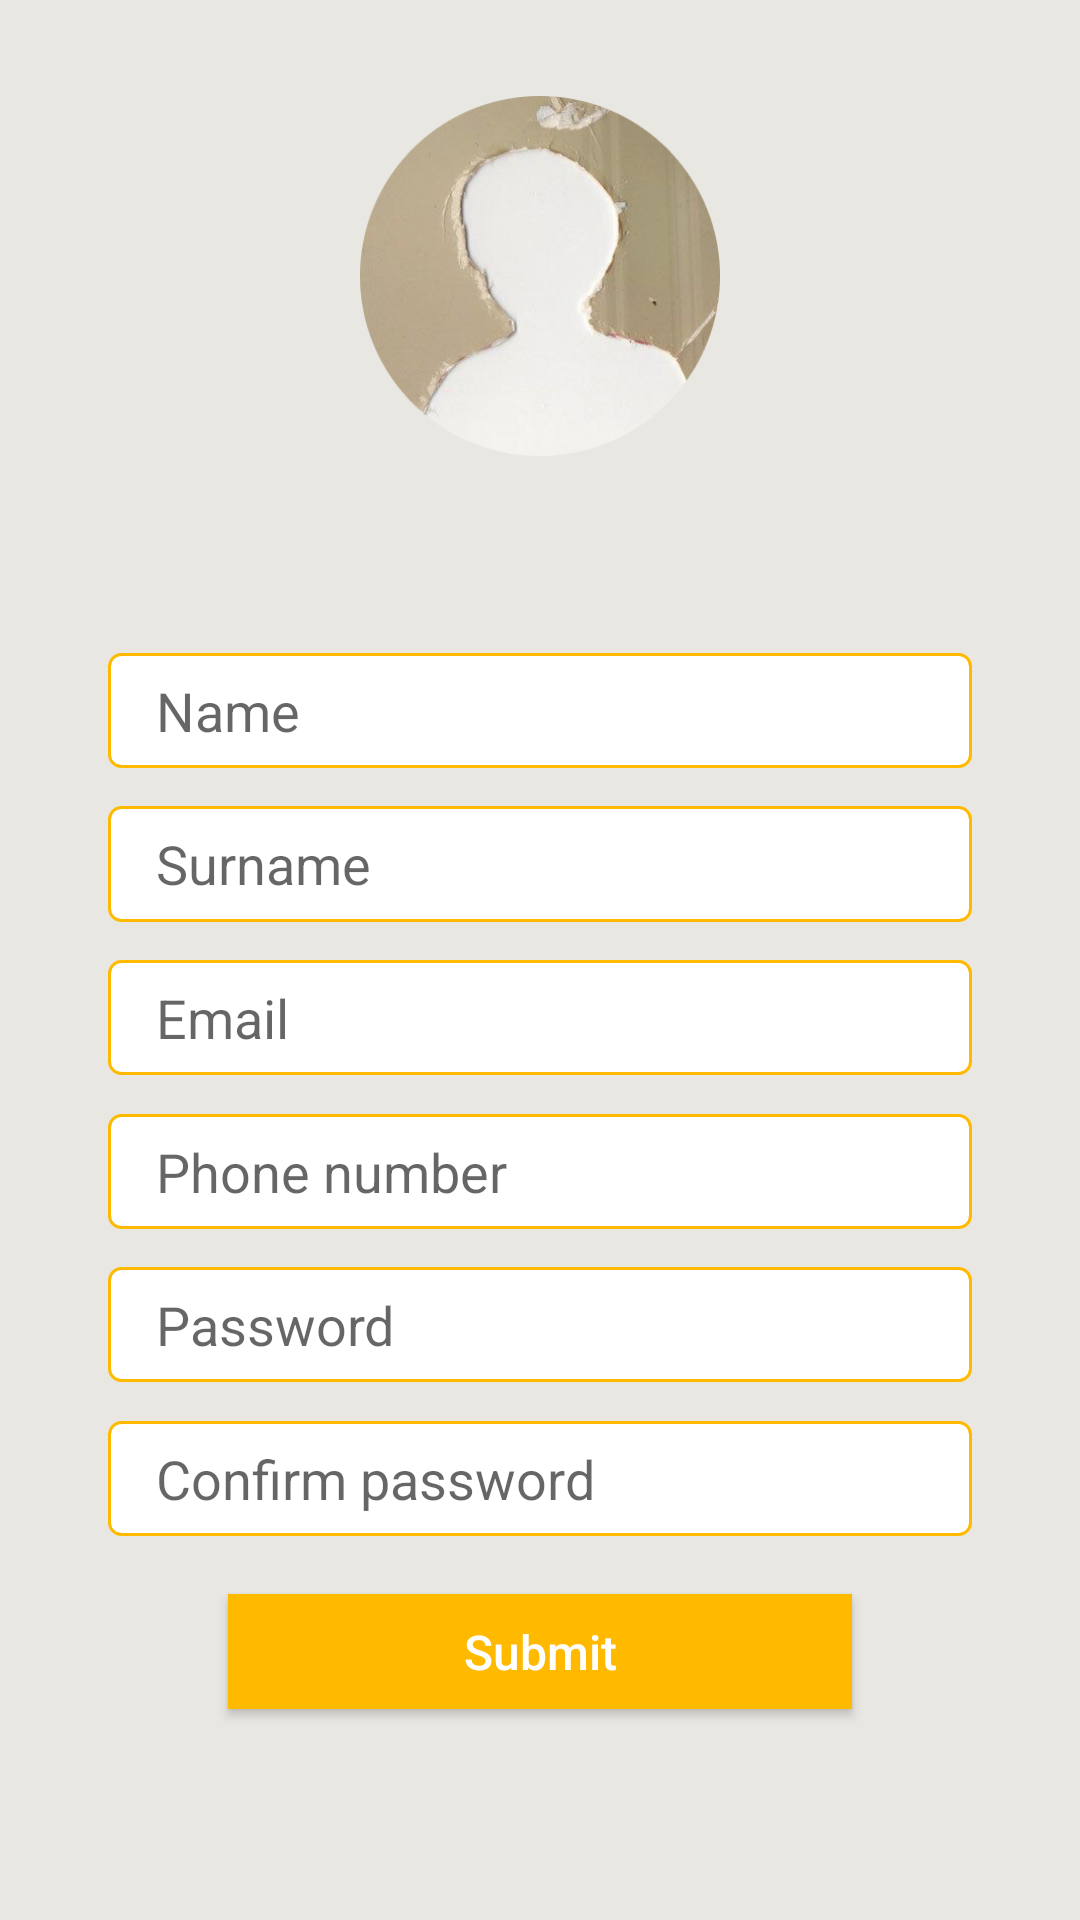

Named icons in this screenshot (1080 x 1920) and their bounding boxes, (x1, y1, x2, y2):
user: (360, 96, 720, 415)
